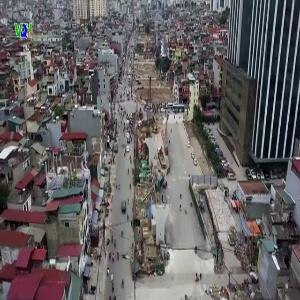drone: (102, 228, 149, 275)
